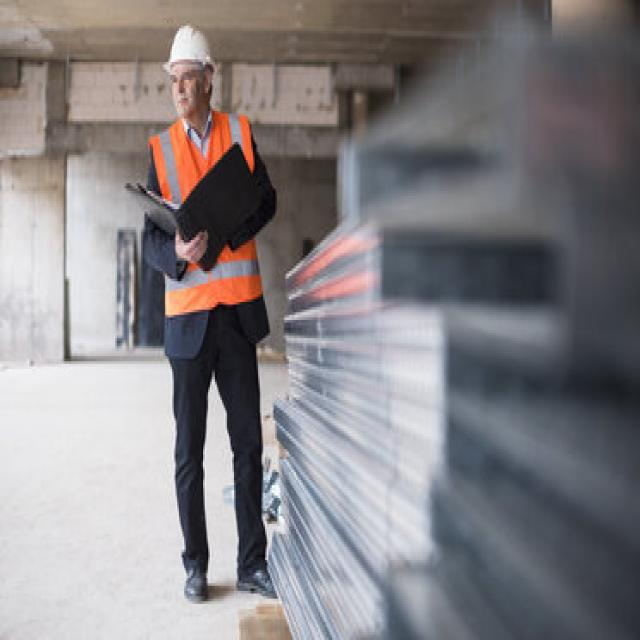helmet: (164, 23, 220, 80)
vest: (146, 108, 266, 310)
